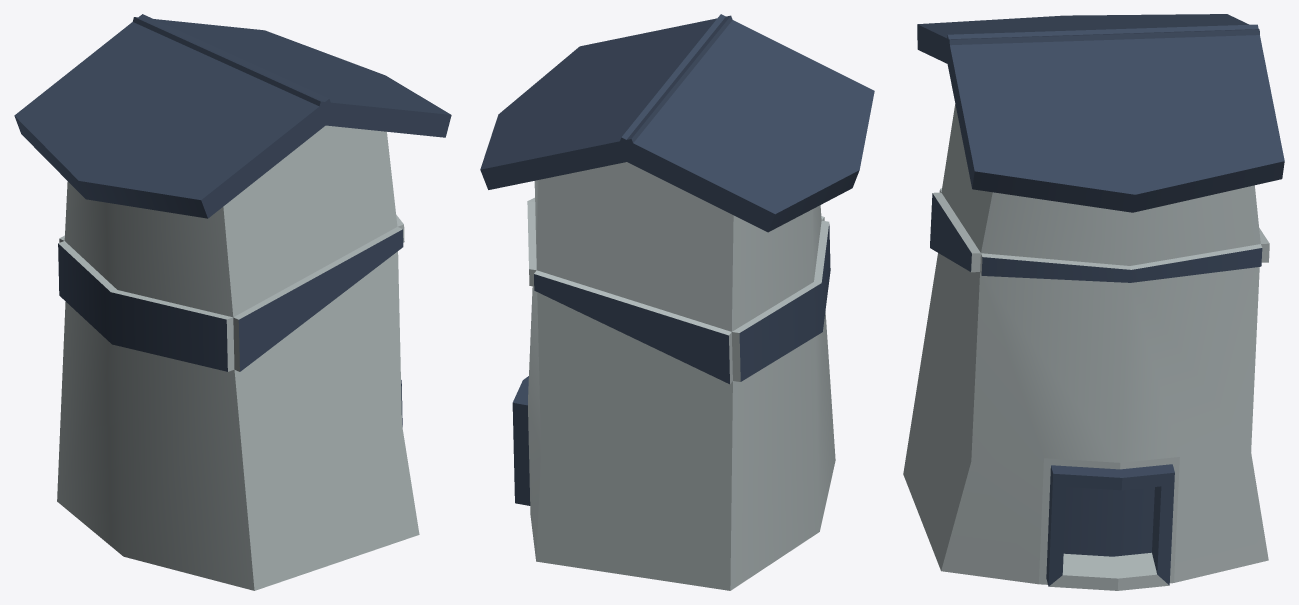
File: windmill body.fbx
3 views of the same model, side by side, from view 1: azimuth 30°, elevation 25°; view 2: azimuth 150°, elevation 25°; view 3: azimuth 270°, elevation 25° (orthographic). The views are drawn at different scales.
Visible parts, largest first — view 1: Box072; view 2: Box072; view 3: Box072.
Part boxes in pixels (bbox=[...]): Box072: bbox=[14, 14, 451, 590]; Box072: bbox=[480, 14, 874, 590]; Box072: bbox=[903, 14, 1284, 590].
Bounding box in the file's own units: 52.87 × 48.01 × 69.3.
